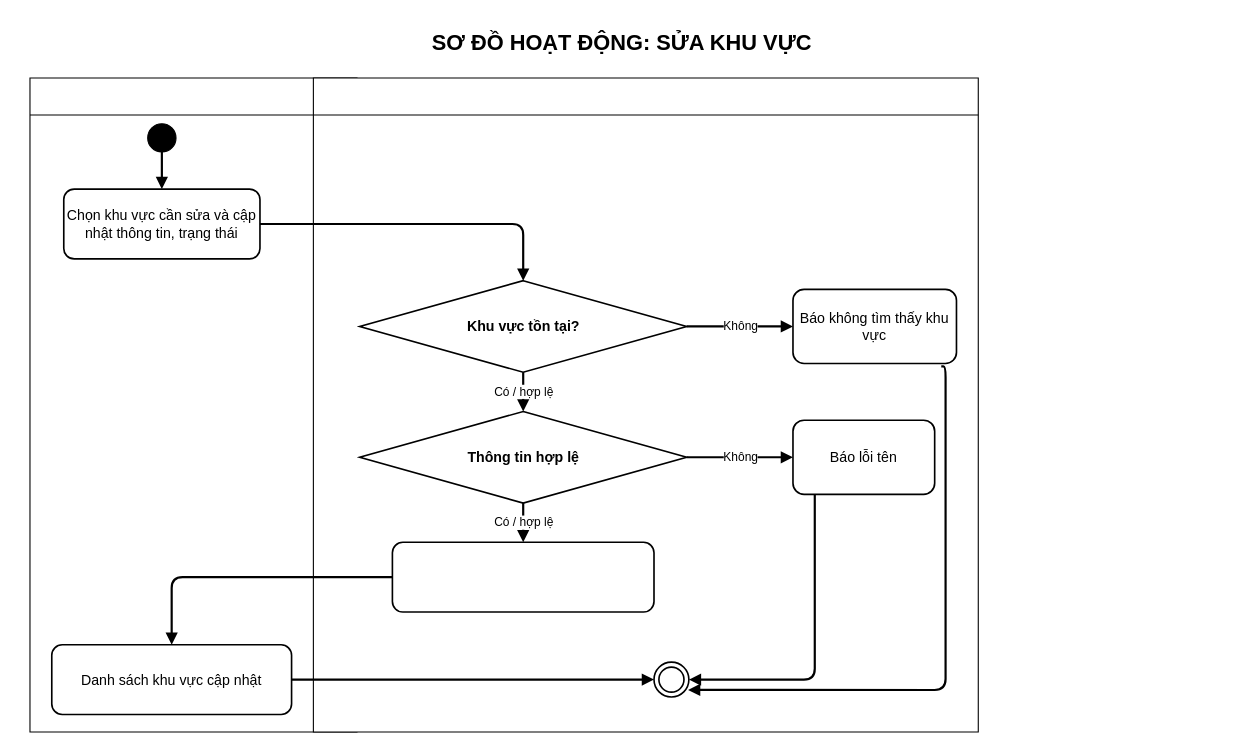
The diagram is 1236 pixels wide and 751 high, and some of its shapes have lost their labels. The box of each missing label's shape, as (x1, y1, x2, y2) in pixels:
Cập nhật khu vực: (391, 541, 654, 612)
Hệ thống: (312, 77, 978, 732)
Tác nhân: Quản lý: (29, 77, 357, 732)
